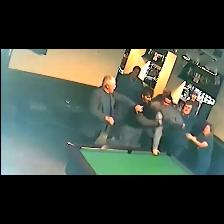person: (87, 76, 142, 142), (121, 87, 162, 147), (186, 123, 213, 174)
